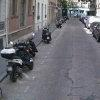Motorcycle: (7, 30, 44, 84)
